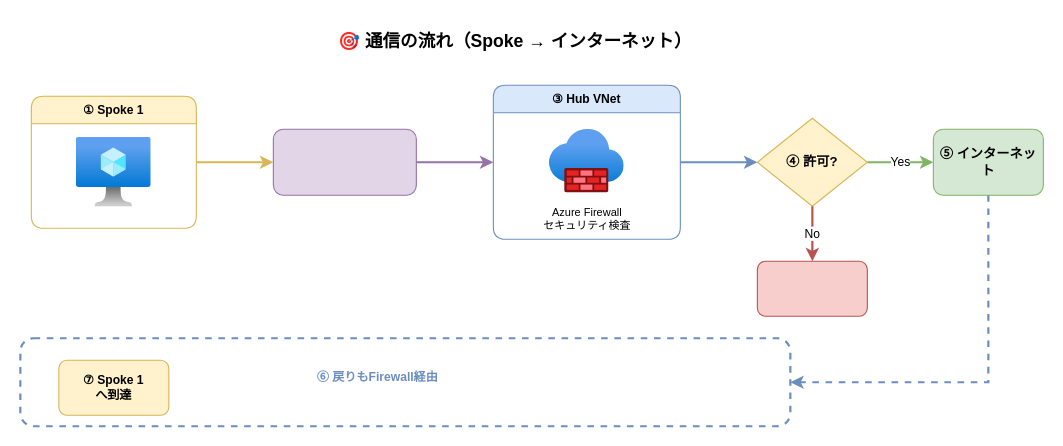
Image size: 1063x446. Some labels were removed from this diagram. The shapes that lost their labels are listed below. From the top down, each one's box as (x1, y1, x2, y2) in pixels, then its label:
(76, 134, 151, 209): Webサーバー
(272, 128, 416, 195): ② UDR (User Defined Route) Hubへ転送
(756, 260, 867, 316): ブロック ❌
